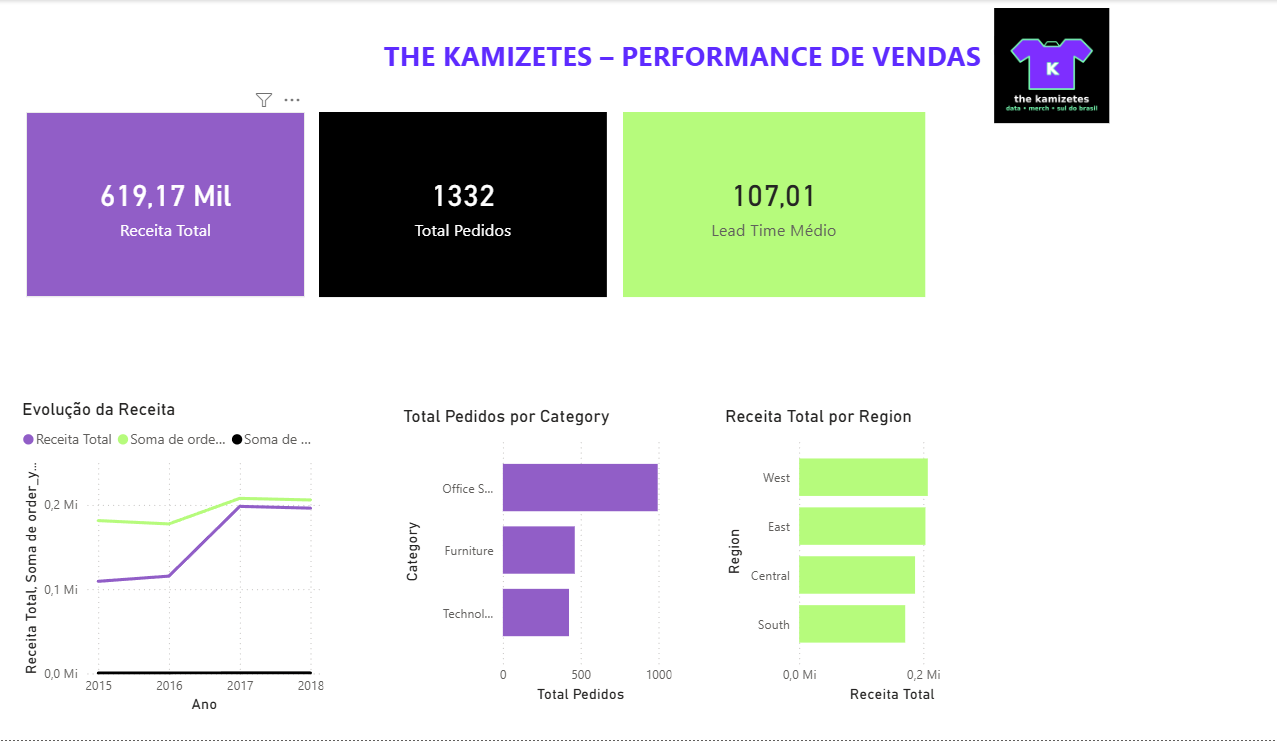

The dashboard page shown, as its layout file describes it:
{"tool":"powerbi","page":{"name":"Performace geral","canvas":[1280,720],"ordinal":0},"visuals":[{"type":"card","fields":{"Values":["dim_customer.Receita Total"]},"box":[25.3,108.9,271.4,179.9],"z":0},{"type":"card","fields":{"Values":["dim_customer.Total Pedidos"]},"box":[310.3,108.9,280.1,179.9],"z":1000},{"type":"card","fields":{"Values":["dim_customer.Lead Time Médio"]},"box":[606,108.9,293.7,179.9],"z":2000},{"type":"lineChart","title":"Evolução da Receita","fields":{"Category":["dim_date.date.Variation.Hierarquia de datas.Ano","dim_date.date.Variation.Hierarquia de datas.Trimestre","dim_date.date.Variation.Hierarquia de datas.Mês","dim_date.date.Variation.Hierarquia de datas.Dia"],"Y":["dim_customer.Receita Total","Sum(dim_date.order_year)","Sum(dim_date.order_month)"]},"box":[16.5,388.1,303.5,310.3],"z":3000},{"type":"barChart","fields":{"Category":["dim_product.Category"],"Y":["dim_customer.Total Pedidos"]},"box":[387.1,394.9,271.4,292.8],"z":4000},{"type":"barChart","fields":{"Category":["dim_geo.Region"],"Y":["dim_customer.Receita Total"]},"box":[700.3,394.9,280.1,292.8],"z":5000},{"type":"textbox","box":[280.1,30.2,700.3,40.9],"z":6000},{"type":"image","box":[855,7.8,335.6,111.9],"z":6001}]}

Visuals, with their boxes on the page's 1280x720 design canvas (x1, y1, x2, y2). These are canvas units, not pixel positions in the 1277x741 screenshot, which may show the page scaled, cropped or inside an application window:
card - dim_customer.Receita Total: rect(25, 109, 297, 289)
card - dim_customer.Total Pedidos: rect(310, 109, 590, 289)
card - dim_customer.Lead Time Médio: rect(606, 109, 900, 289)
"Evolução da Receita" lineChart: rect(16, 388, 320, 698)
barChart - dim_product.Category x dim_customer.Total Pedidos: rect(387, 395, 658, 688)
barChart - dim_geo.Region x dim_customer.Receita Total: rect(700, 395, 980, 688)
textbox: rect(280, 30, 980, 71)
image: rect(855, 8, 1191, 120)
